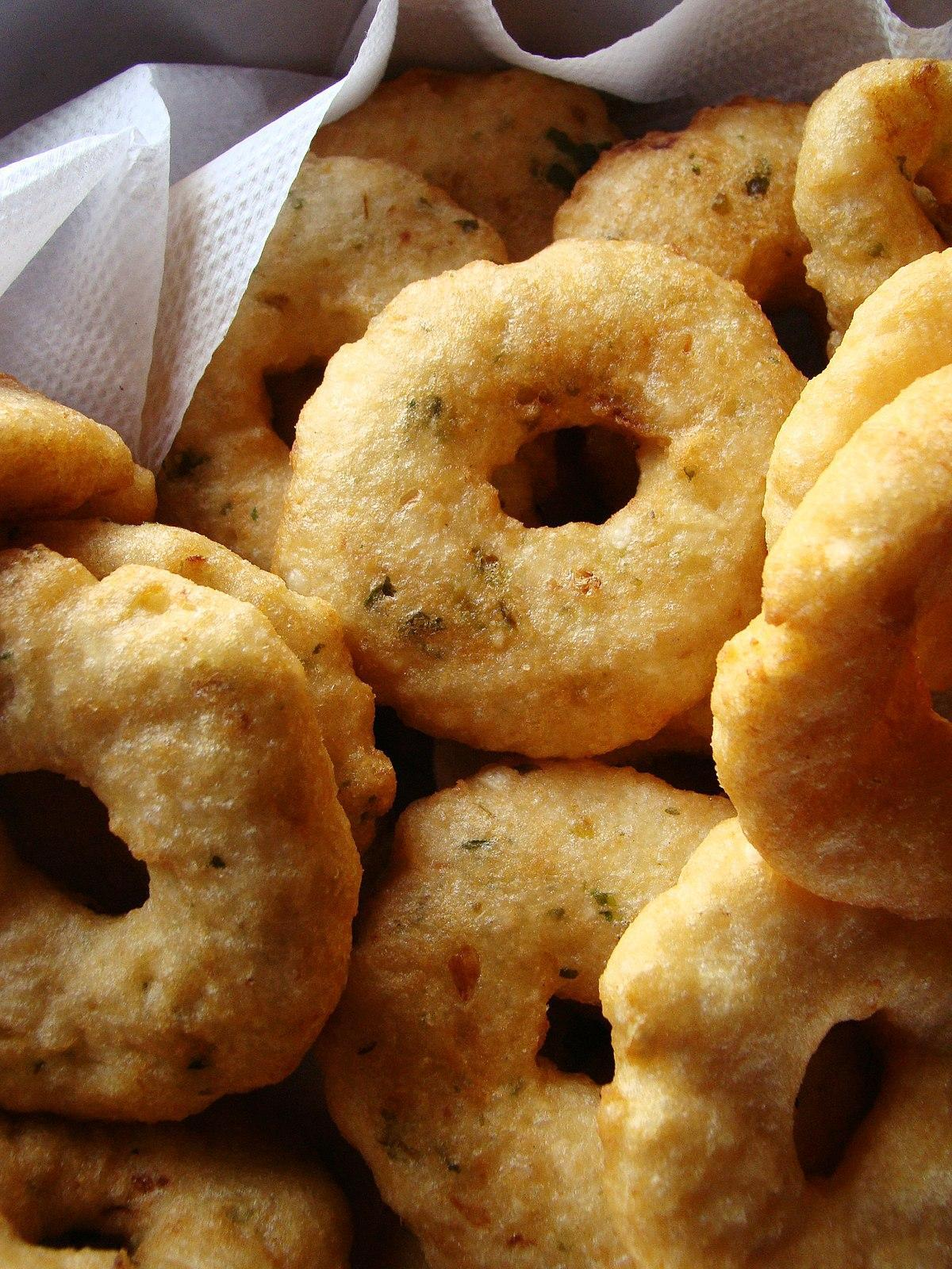mvada: (300, 176, 930, 1259)
